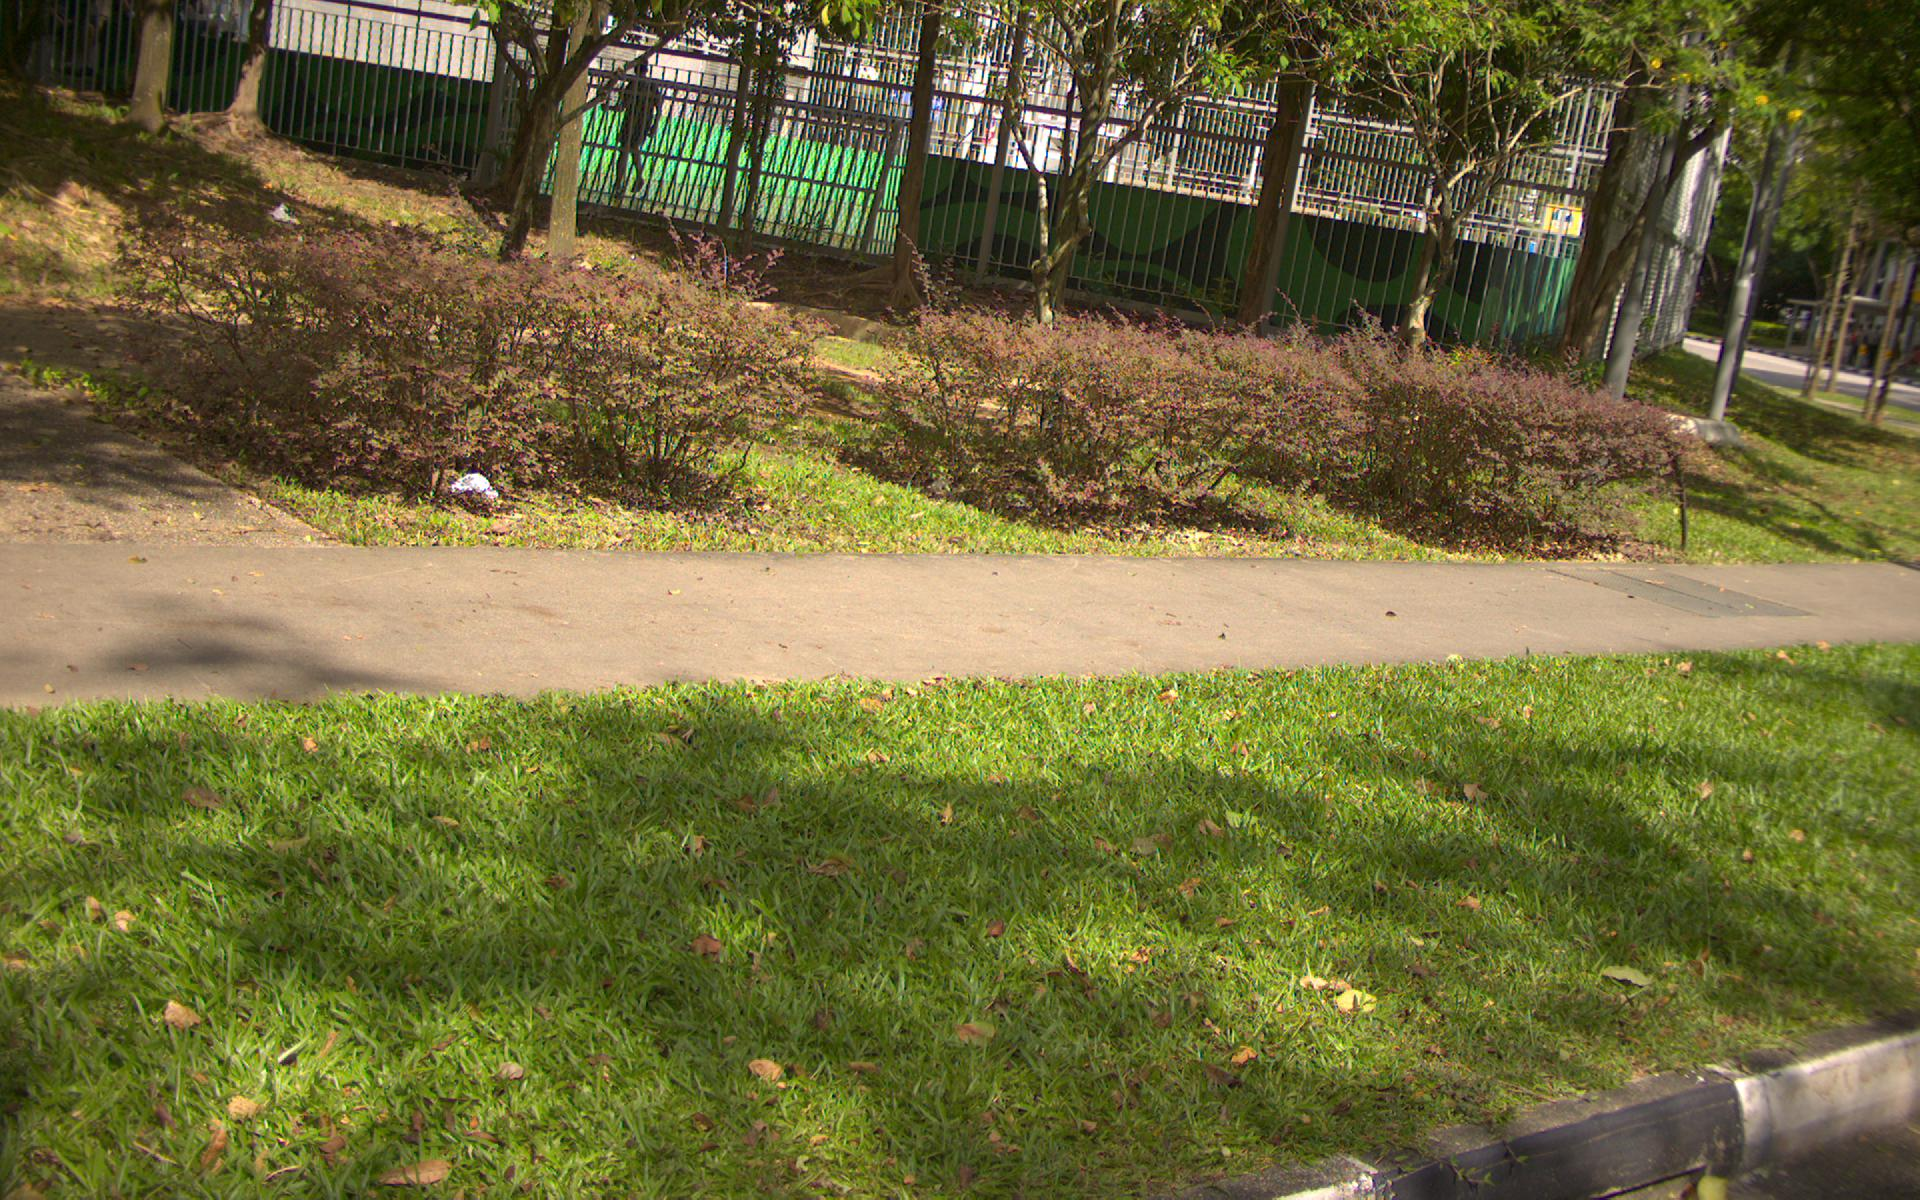pathway_low: (17, 563, 1920, 646)
road_turf_low: (4, 716, 1917, 1018), (335, 408, 1920, 554)
